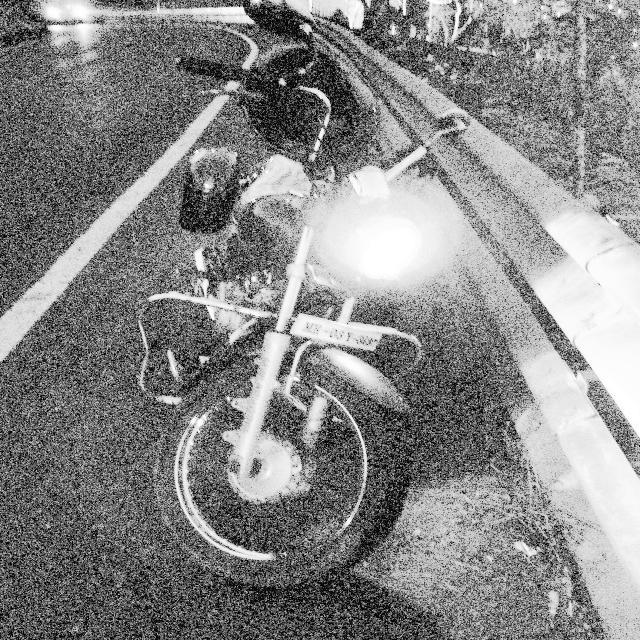Motorcycle: (143, 52, 479, 602)
